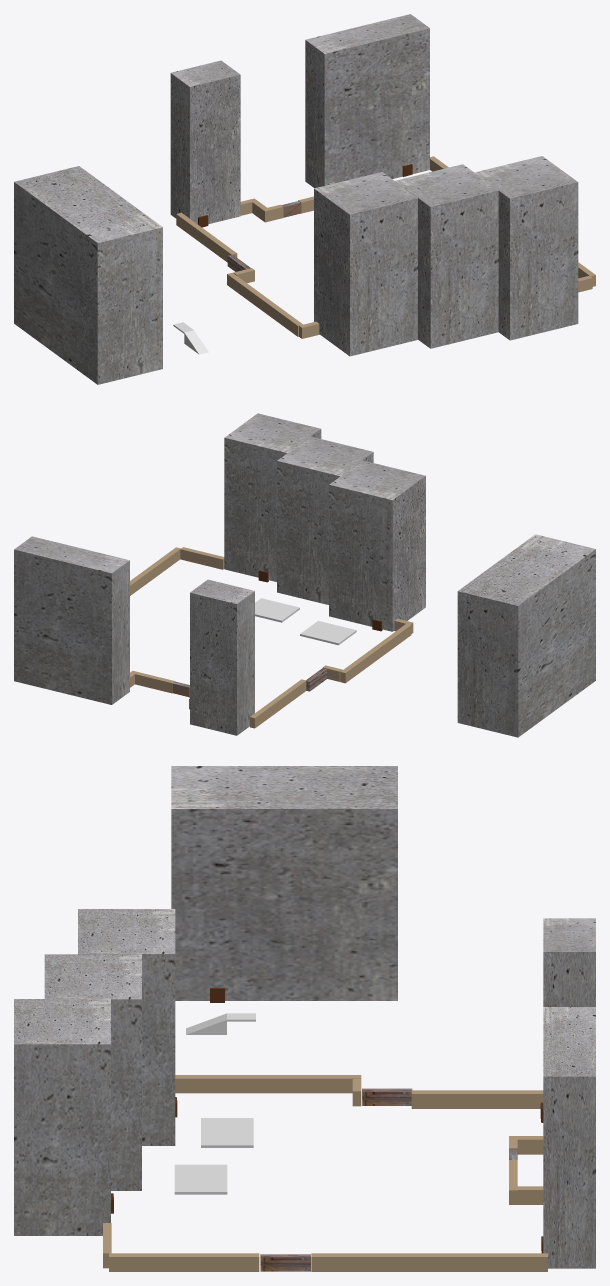
Rendered from flora_square.glb.
3 renders of one model, top to bottom at view 1: azimuth 30°, elevation 25°; view 2: azimuth 150°, elevation 25°; view 3: azimuth 270°, elevation 25°, orthographic. The views are drawn at different scales.
Visible parts, largest first — view 1: Building 2, Building 1, Building 4, Building 4.001, Building 4.002, Building 3, Building 3.006, Building 3.011; view 2: Building 2, Building 1, Building 4, Building 3, Building 4.002, Building 4.001, Building 3.006, Building 3.011, Cube, Building 3.009, Cube.001, Building 3.008 (+1 smaller); view 3: Building 2, Building 4.002, Building 1, Building 4, Building 4.001, Building 3, Building 3.007, Building 3.006, Building 3.009, Building 3.011, Cube.001, Cube (+2 smaller).
Part boxes in pixels (box(x1,y1,x2,y2)): Building 2: box(14, 166, 162, 384); Building 1: box(305, 14, 429, 188); Building 4: box(314, 172, 417, 356); Building 4.001: box(395, 164, 498, 348); Building 4.002: box(474, 156, 578, 340); Building 3: box(170, 60, 240, 224); Building 3.006: box(227, 272, 302, 336); Building 3.011: box(176, 212, 237, 262); Building 2: box(457, 534, 595, 737); Building 1: box(14, 536, 129, 704); Building 4: box(329, 460, 425, 631); Building 3: box(190, 579, 254, 735); Building 4.002: box(224, 413, 321, 581); Building 4.001: box(277, 436, 373, 604); Building 3.006: box(340, 623, 411, 683); Building 3.011: box(250, 679, 306, 728); Cube: box(300, 621, 356, 645); Building 3.009: box(130, 547, 180, 595); Cube.001: box(255, 598, 299, 622); Building 3.008: box(180, 547, 224, 569); Building 2: box(171, 766, 397, 1000); Building 4.002: box(14, 999, 110, 1235); Building 1: box(543, 1007, 595, 1268); Building 4: box(78, 909, 175, 1145); Building 4.001: box(44, 954, 141, 1190); Building 3: box(543, 918, 595, 1006); Building 3.007: box(311, 1253, 547, 1271); Building 3.006: box(175, 1075, 361, 1093); Building 3.009: box(109, 1253, 259, 1271); Building 3.011: box(411, 1090, 543, 1108); Cube.001: box(174, 1164, 227, 1194); Cube: box(201, 1118, 253, 1147).
Size of what is drawn, in the model's own units: 96.39 by 27.85 by 75.56.
Materials: 18 (2 with a texture image).
